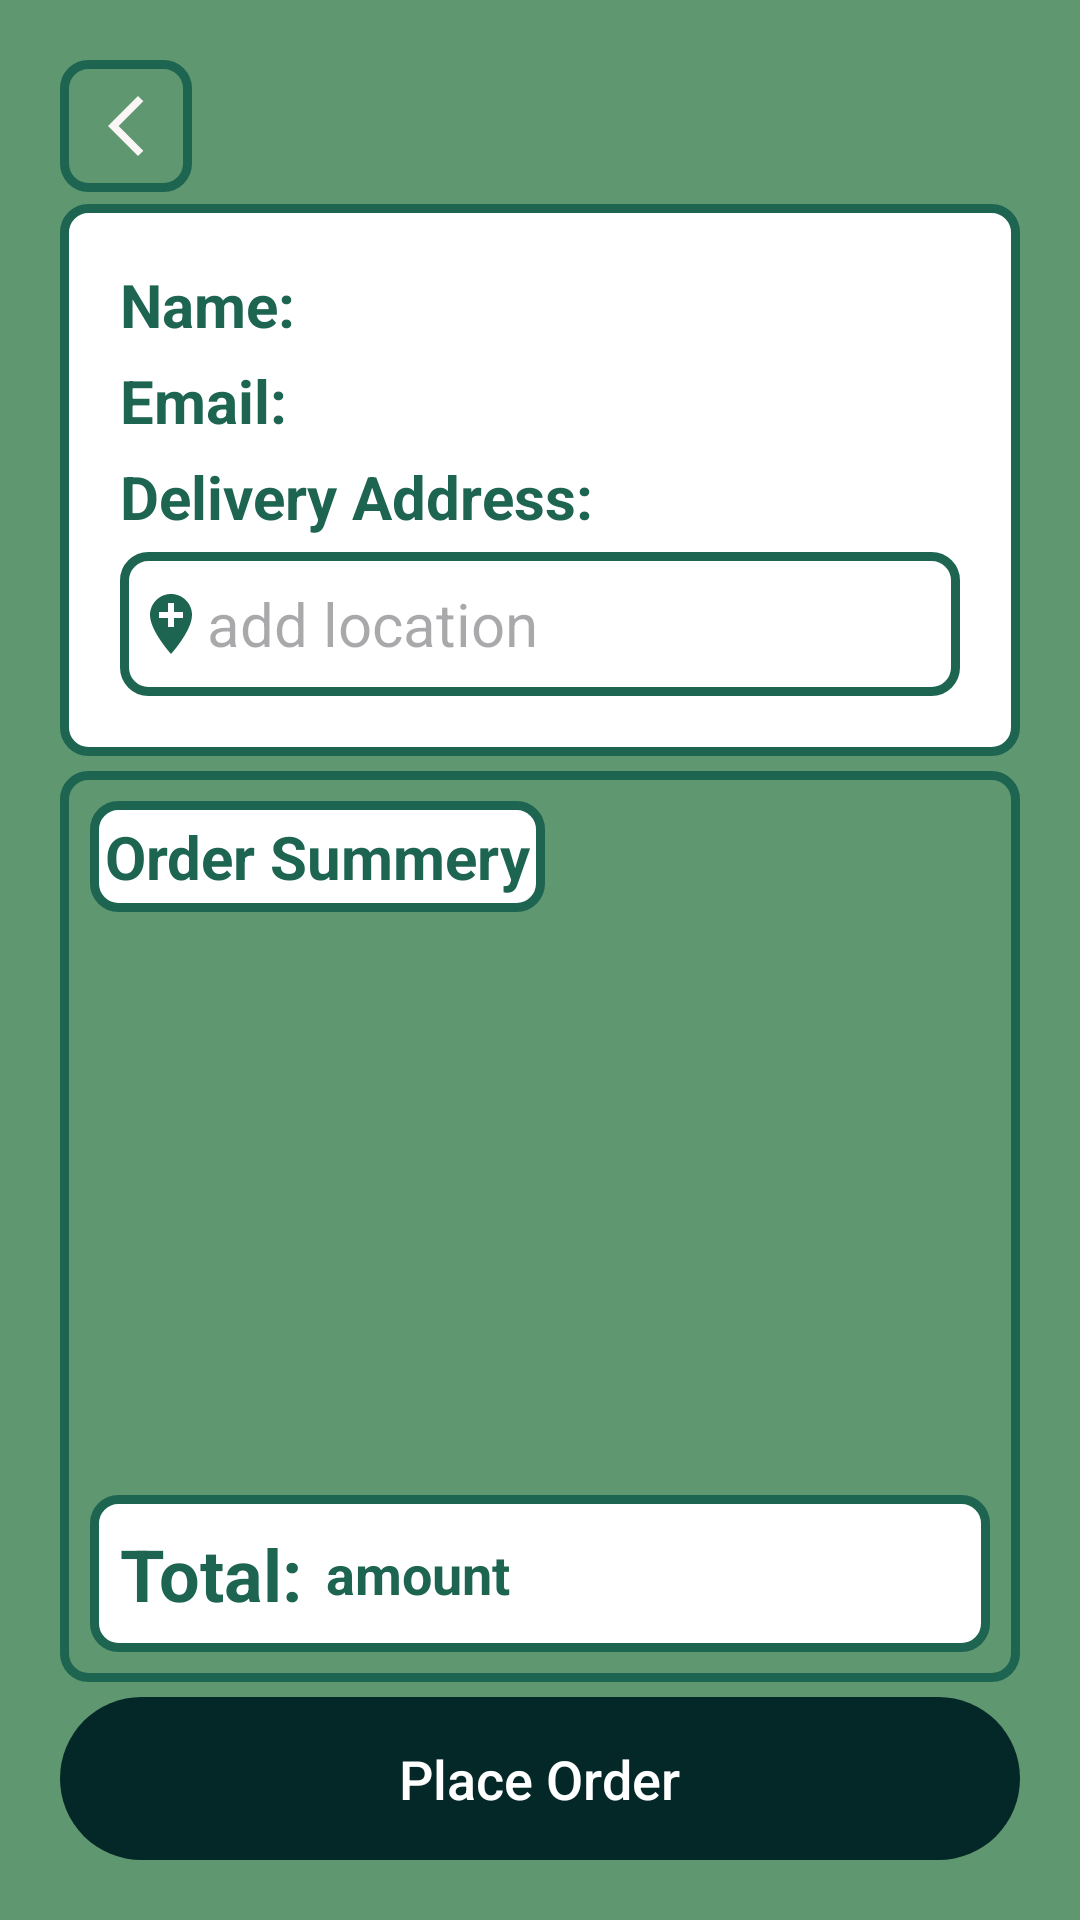

Locate icon controls on the screen. Image size 1080px×1920px, boxes as bbox=(x1, y1, x2, y2).
arrow back: bbox=(60, 60, 192, 192)
